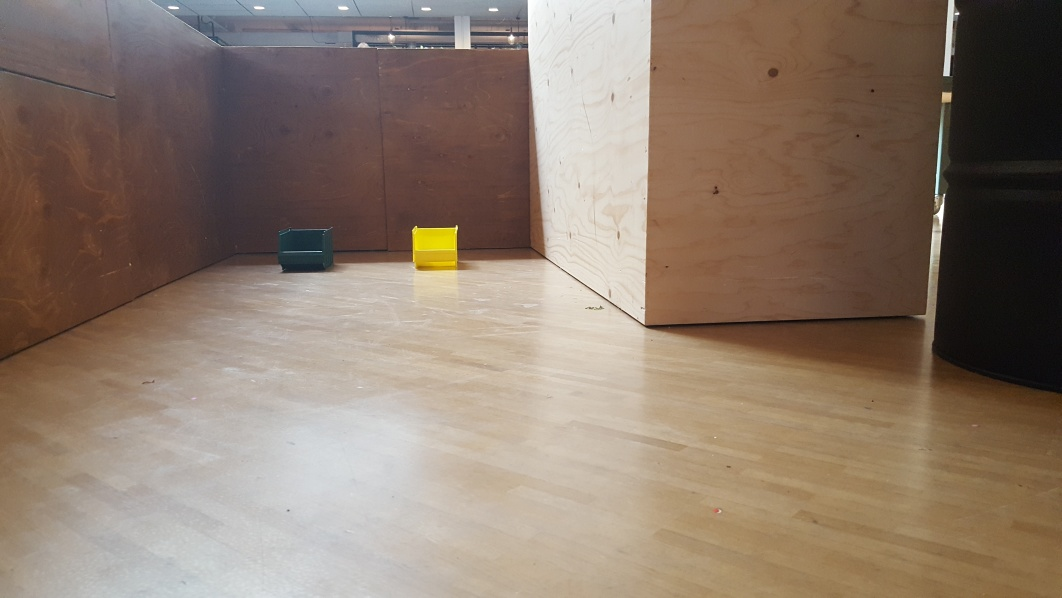tray: (274, 225, 332, 275), (407, 224, 462, 269)
